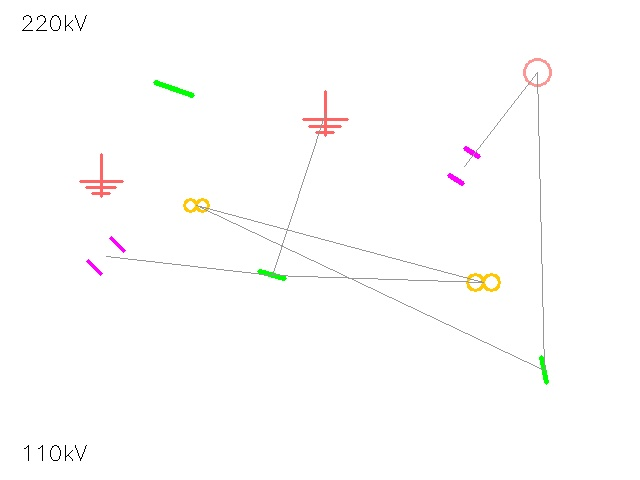busbar: (150, 65, 198, 113), (256, 259, 288, 291), (528, 354, 560, 386)
capacitor: (79, 229, 133, 283), (438, 140, 490, 192)
ground: (303, 91, 347, 135), (80, 154, 122, 196)
load_break_switch: (511, 46, 563, 98)
transformer_2w: (463, 262, 503, 302), (181, 190, 211, 220)
